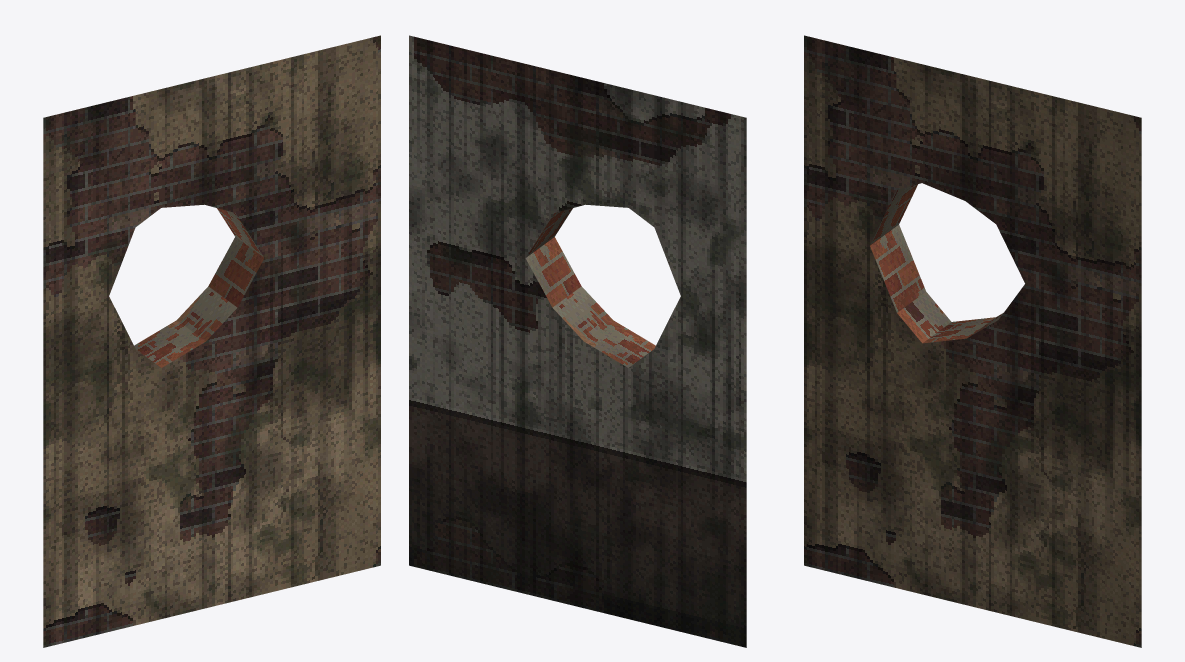
File: ext_wall_hole.gltf
The picture shows the model from 3 angles, left to right: view 1: azimuth 30°, elevation 25°; view 2: azimuth 150°, elevation 25°; view 3: azimuth 330°, elevation 25°; orthographic projection.
Parts seen in each view (by area): view 1: ext_wall_hole-col; view 2: ext_wall_hole-col; view 3: ext_wall_hole-col.
Boxes of the visible parts, box(x1,y1,x2,y2) form: ext_wall_hole-col: box(43, 35, 380, 647); ext_wall_hole-col: box(409, 35, 746, 647); ext_wall_hole-col: box(804, 35, 1141, 647).
Bounding box in the file's own units: 2 × 3 × 0.3.
Materials: 3 (3 with a texture image).
